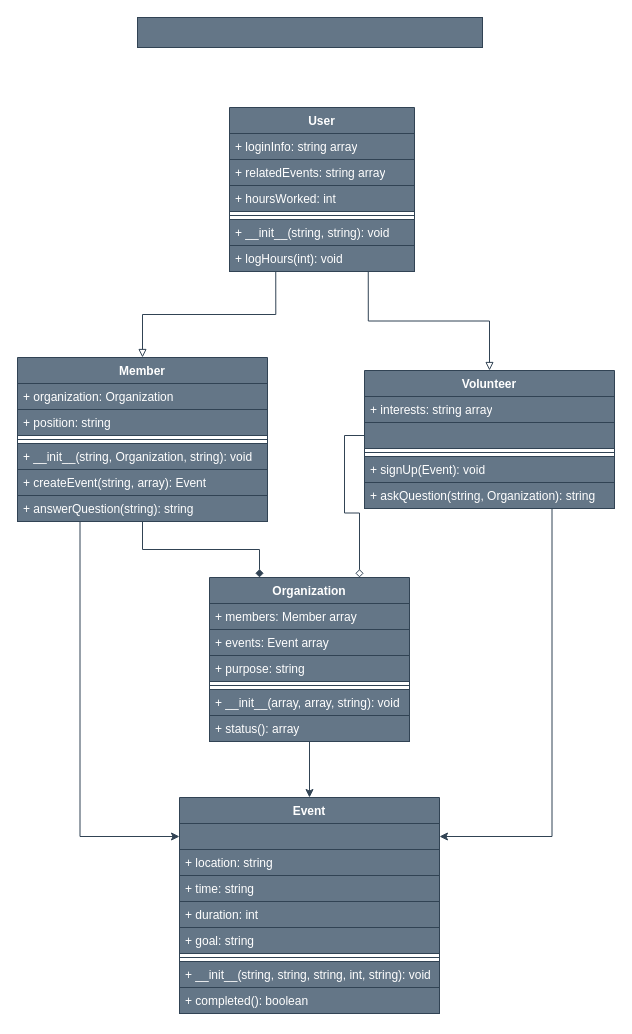
This 632x1034 diagram has some shape labels left out. The shapes that lost their labels are listed below. From the top down, each one's centre as x and y in pixels, then its label:
point (309, 32): Nonprofit Organizer by Kevin Ying
point (489, 435): + availableTimes: string array
point (309, 836): + name: string
